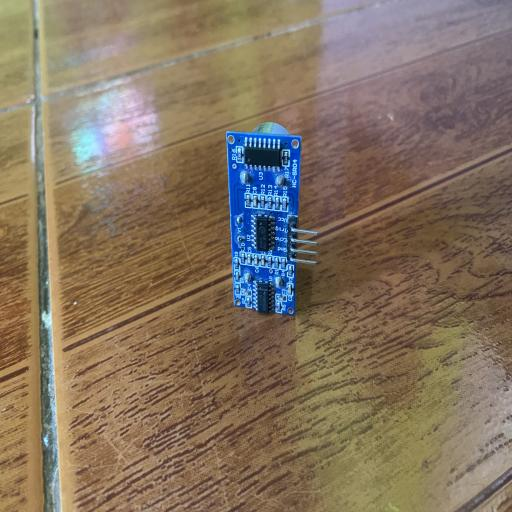Ultrasonic Sensor: (226, 120, 318, 318)
